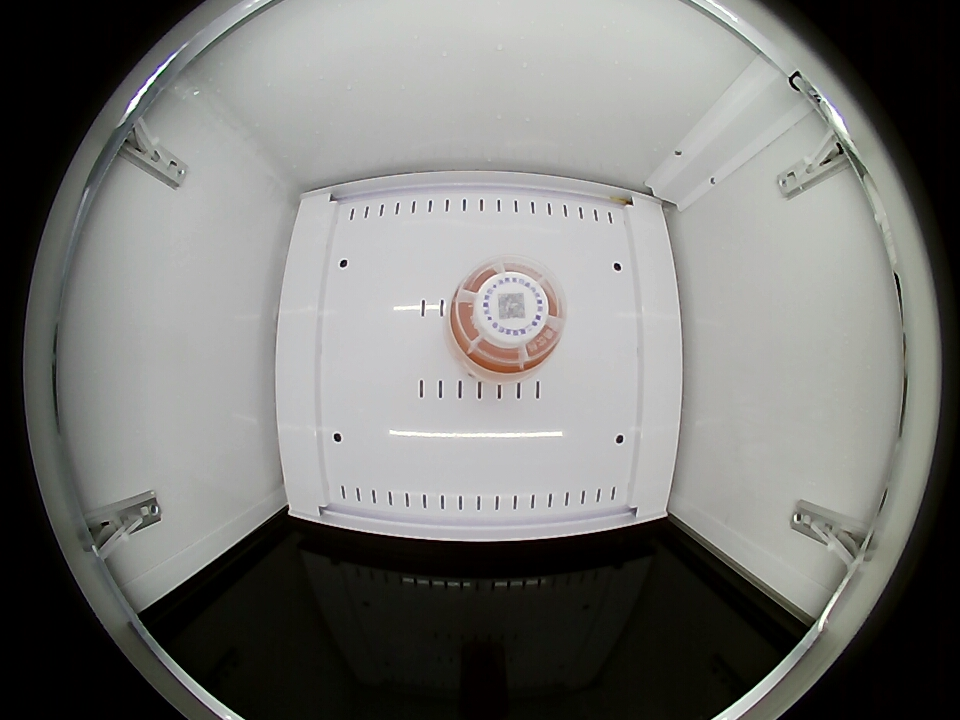dongpeng-b: (448, 258, 565, 376)
